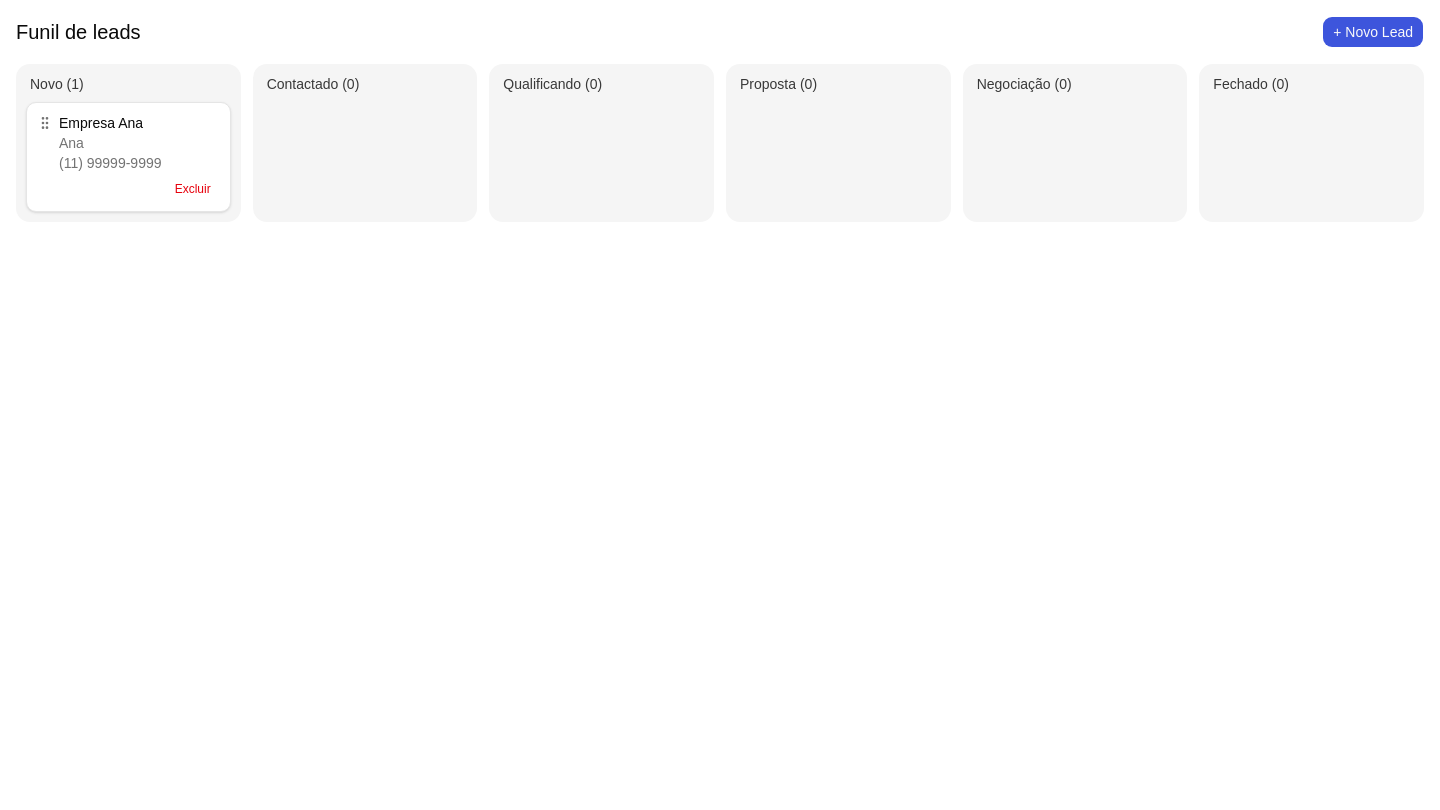
Test: KanbanBoard › abre modal de edição pré-preenchido ao clicar no lead
Click the button with aria-label "Editar Empresa Ana".
click(139, 133)  # box left=59, top=113, right=220, bottom=153
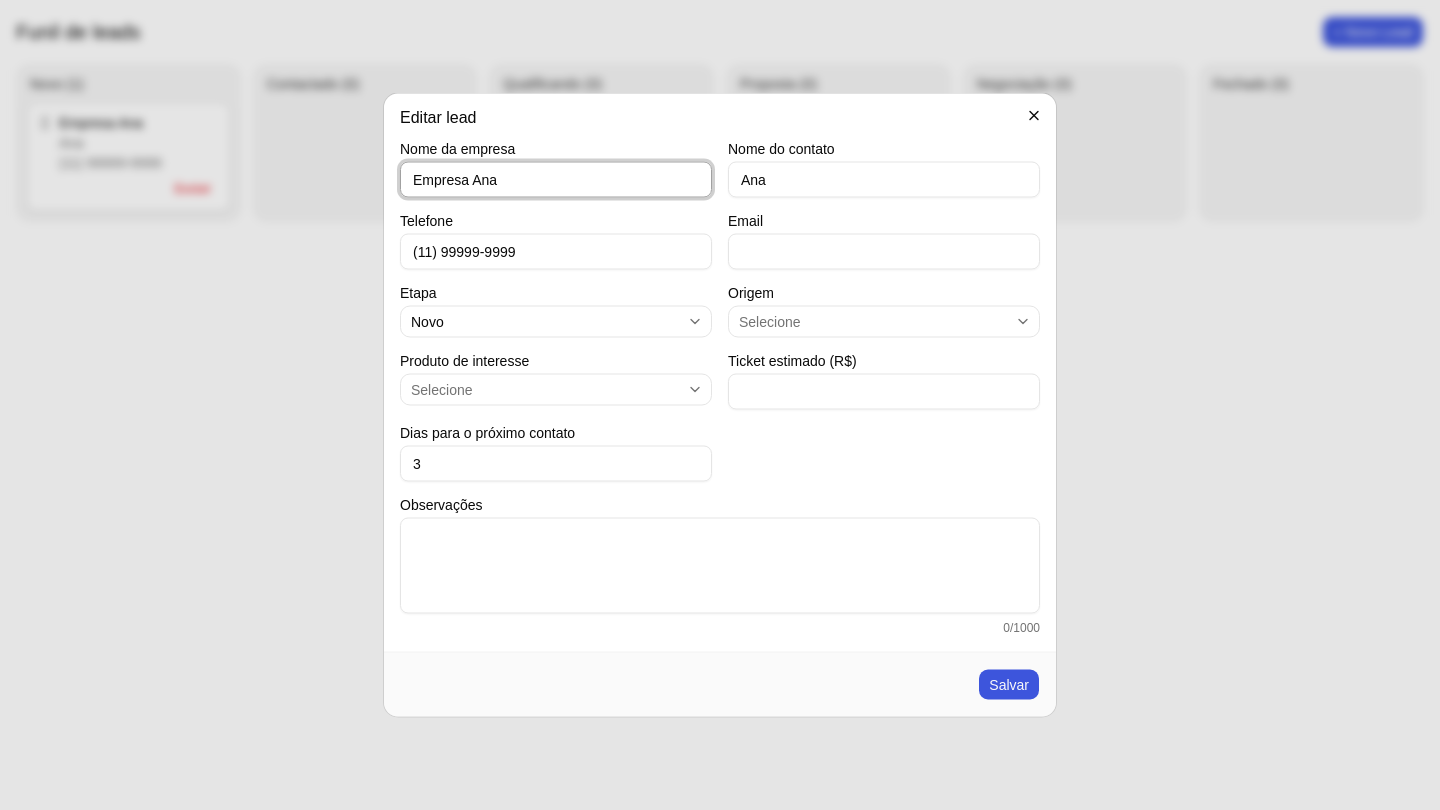
Expected: the heading "Editar lead" is shown, left=400, top=108, right=476, bottom=126
Expected: the field labelled "Nome da empresa" holds "Empresa Ana", left=400, top=162, right=712, bottom=198
Expected: the field labelled "Nome do contato" holds "Ana", left=728, top=162, right=1040, bottom=198
